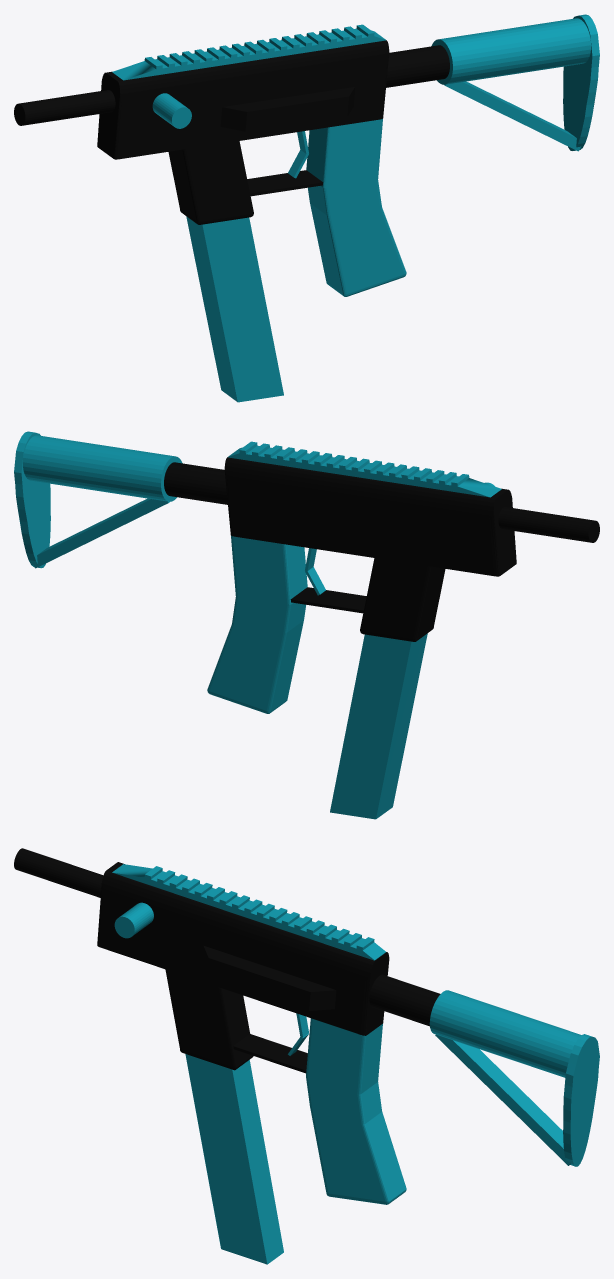
File: fgc0002.obj
The picture shows the model from 3 angles, top to bottom: view 1: azimuth 30°, elevation 25°; view 2: azimuth 150°, elevation 25°; view 3: azimuth 330°, elevation 25°; orthographic projection.
Parts seen in each view (by area): view 1: upperReceiver, rearPistolGrip, mag, StockCylinder, magWell, picatinyRail, ejectorCover, buttPlate, barrel, bufferTube, stockSupport, lowerTriggerGuard (+1 smaller); view 2: upperReceiver, rearPistolGrip, mag, StockCylinder, magWell, picatinyRail, buttPlate, barrel, bufferTube, stockSupport, lowerTriggerGuard; view 3: upperReceiver, rearPistolGrip, mag, StockCylinder, magWell, picatinyRail, ejectorCover, buttPlate, stockSupport, bufferTube, barrel, lowerTriggerGuard (+1 smaller).
Boxes of the visible parts, x1,y1,x2,y2 form: upperReceiver: (97,40,389,159); rearPistolGrip: (306,119,406,296); mag: (186,216,283,402); StockCylinder: (431,18,590,84); magWell: (168,141,253,224); picatinyRail: (112,24,385,80); ejectorCover: (220,87,354,131); buttPlate: (563,14,599,150); barrel: (14,90,115,125); bufferTube: (386,45,449,87); stockSupport: (444,81,580,151); lowerTriggerGuard: (247,170,323,196); upperReceiver: (224,457,516,576); rearPistolGrip: (207,536,307,713); mag: (330,633,427,819); StockCylinder: (23,435,182,501); magWell: (360,558,445,641); picatinyRail: (228,441,501,497); buttPlate: (14,431,50,568); barrel: (498,507,599,542); bufferTube: (164,462,227,504); stockSupport: (33,498,169,568); lowerTriggerGuard: (290,587,366,613); upperReceiver: (97,862,389,1035); rearPistolGrip: (306,1018,406,1204); mag: (185,1054,283,1264); StockCylinder: (429,990,580,1077); magWell: (165,969,253,1070); picatinyRail: (112,864,385,960); ejectorCover: (202,945,336,1010); buttPlate: (563,1034,599,1166); stockSupport: (435,1034,570,1165); bufferTube: (369,974,440,1026); barrel: (14,848,103,897); lowerTriggerGuard: (233,1034,307,1073).
Bounding box in the file's own units: 4.56 × 2.73 × 0.5812.
